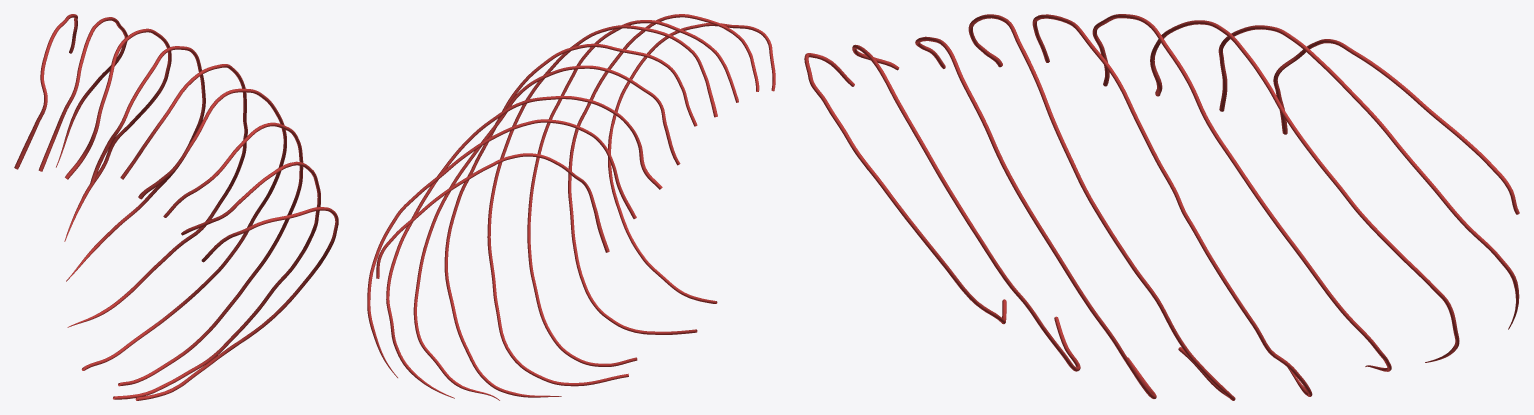
The picture shows the model from 3 angles, left to right: view 1: azimuth 30°, elevation 25°; view 2: azimuth 150°, elevation 25°; view 3: azimuth 270°, elevation 25°; orthographic projection. The views are drawn at different scales.
Parts seen in each view (by area): view 1: 左侧肋间后动脉; view 2: 左侧肋间后动脉; view 3: 左侧肋间后动脉.
Boxes of the visible parts, box(x1,y1,x2,y2) form: 左侧肋间后动脉: box(14, 14, 338, 400); 左侧肋间后动脉: box(367, 14, 775, 400); 左侧肋间后动脉: box(804, 14, 1519, 400).
Size of the model in its own units: 0.1892 by 0.2893 by 0.4914.
